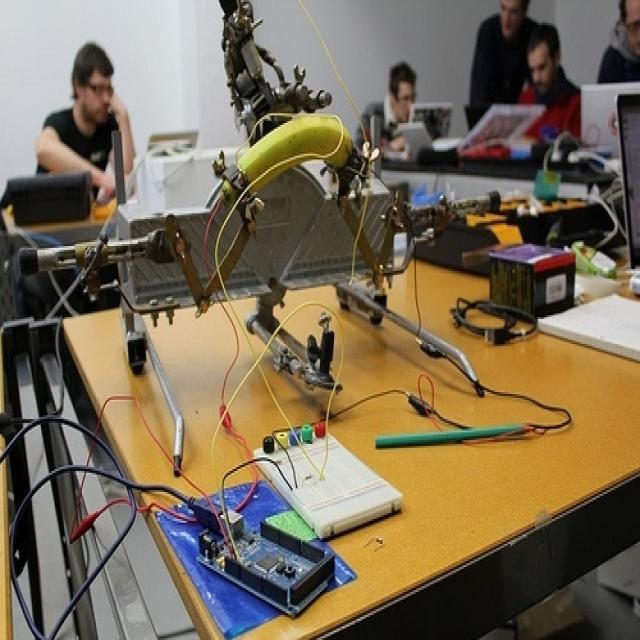Cable: (7, 226, 271, 619)
E-waste: (208, 0, 450, 617)
